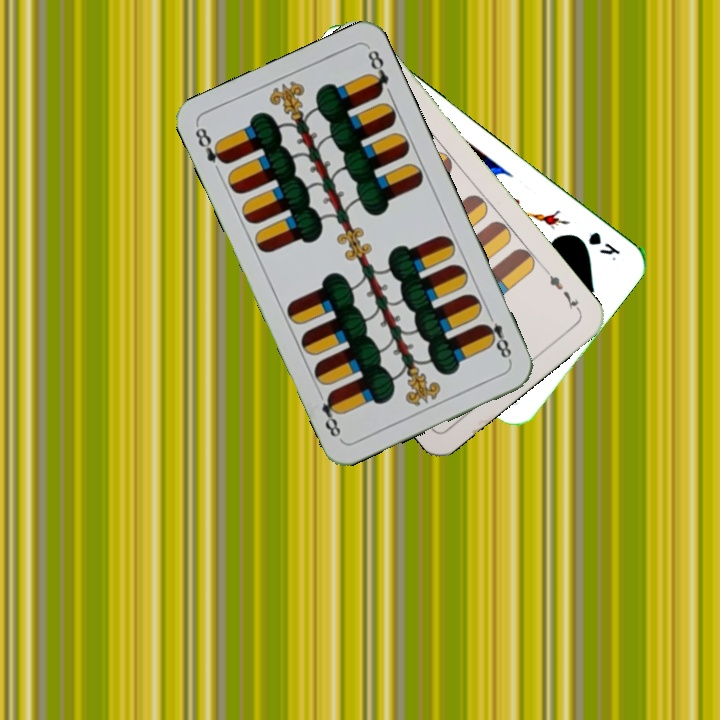E7: (541, 265, 584, 315)
E8: (478, 308, 514, 365), (191, 122, 230, 167)
GK: (584, 227, 623, 258)
